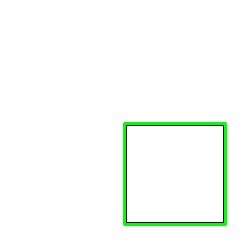line_segment: (123, 122, 227, 226)
